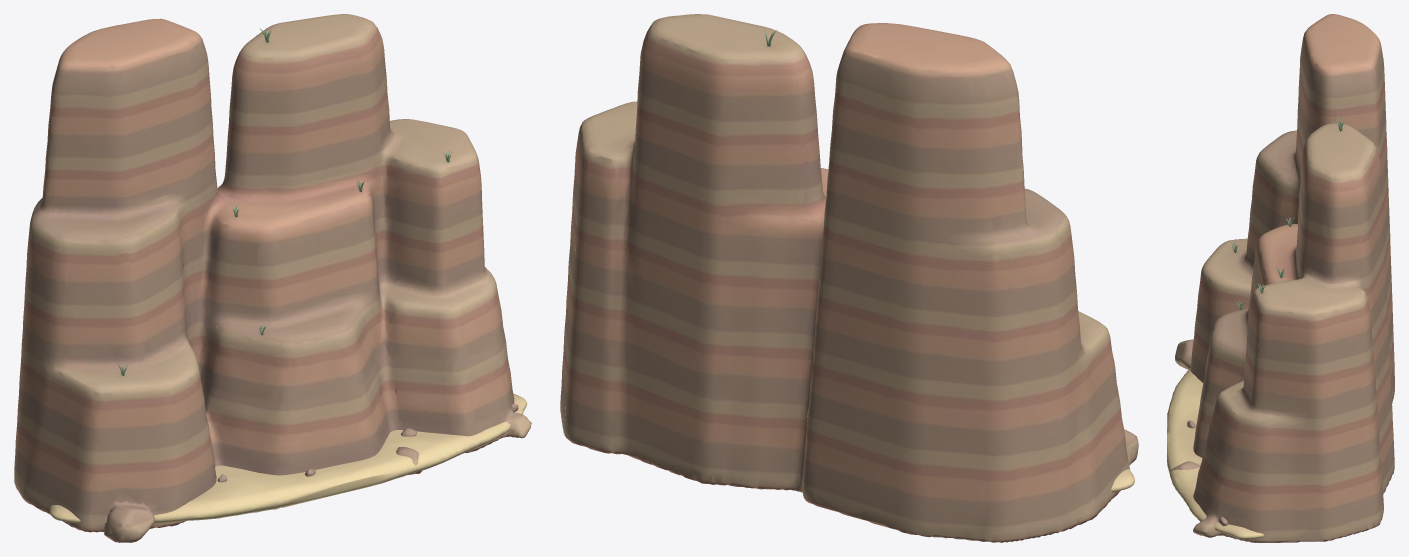
Rendered from canyon-wall.glb.
3 renders of one model, left to right at view 1: azimuth 30°, elevation 25°; view 2: azimuth 150°, elevation 25°; view 3: azimuth 270°, elevation 25°, orthographic. The views are drawn at different scales.
Parts seen in each view (by area): view 1: canyon-wall_body; view 2: canyon-wall_body; view 3: canyon-wall_body.
Part boxes in pixels (x1,y1,x2,y2): canyon-wall_body: (14,14,531,542); canyon-wall_body: (560,14,1138,542); canyon-wall_body: (1167,14,1394,542).
Bounding box in the file's own units: 8.33 × 6.92 × 3.98.
1 material, 1 textured.
